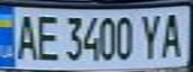0: (115, 14, 139, 61), (97, 14, 118, 62)
3: (60, 12, 84, 62)
4: (81, 12, 100, 62)
A: (9, 11, 39, 62), (157, 9, 187, 60)
E: (33, 11, 60, 62)
Y: (136, 10, 163, 61)
